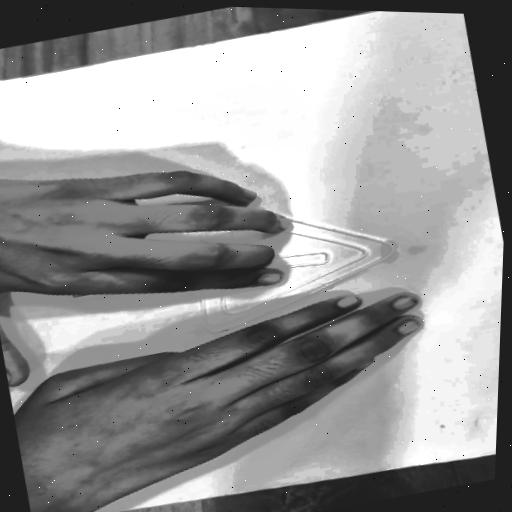signboard: (48, 178, 412, 362)
